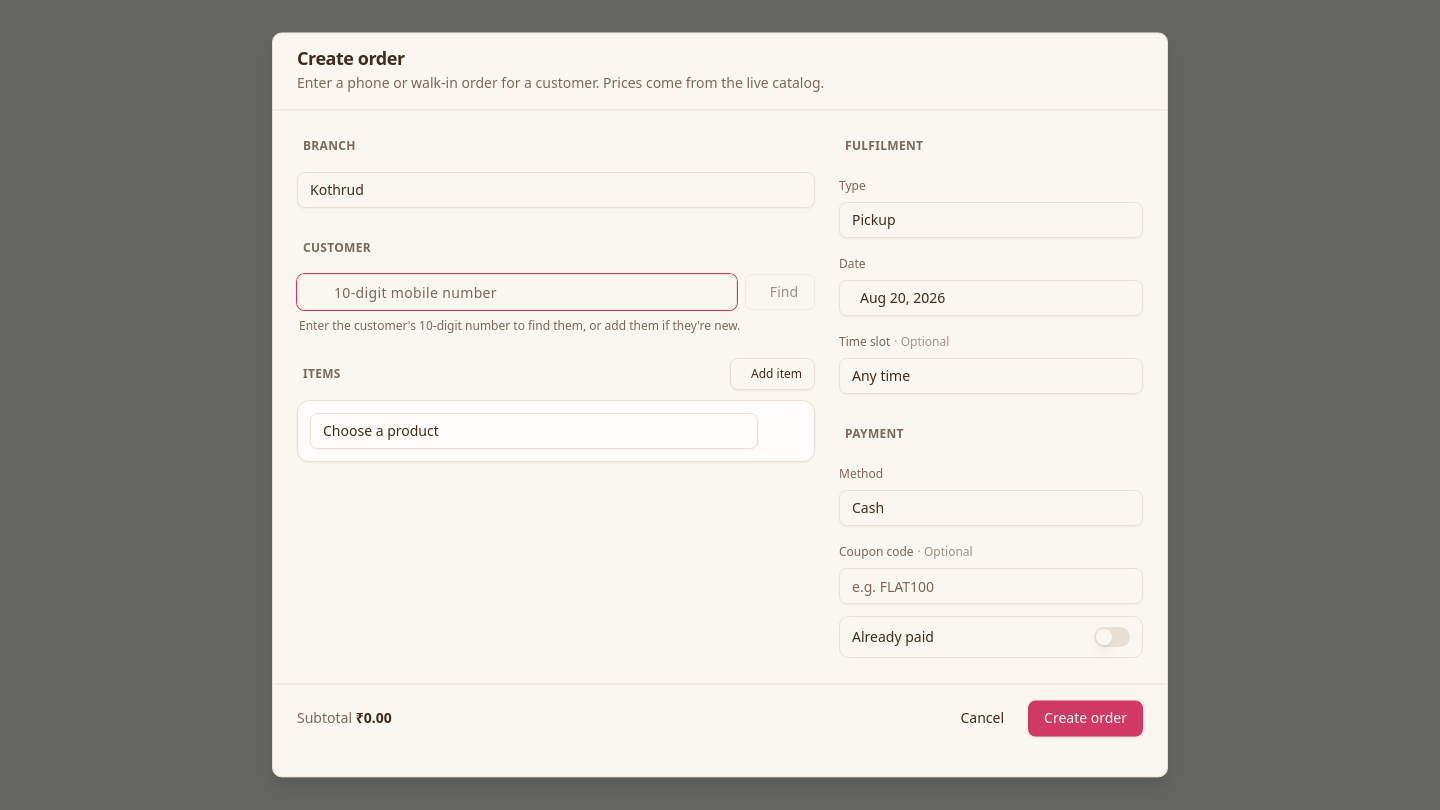
Test: CreateOrderDialog without the customer directory › takes an unknown number into the form, already filled and fixed
Type "9812345678" into the field with placeholder "10-digit mobile number". click: point(517, 292)
box: top-left (297, 274), bottom-right (737, 310)
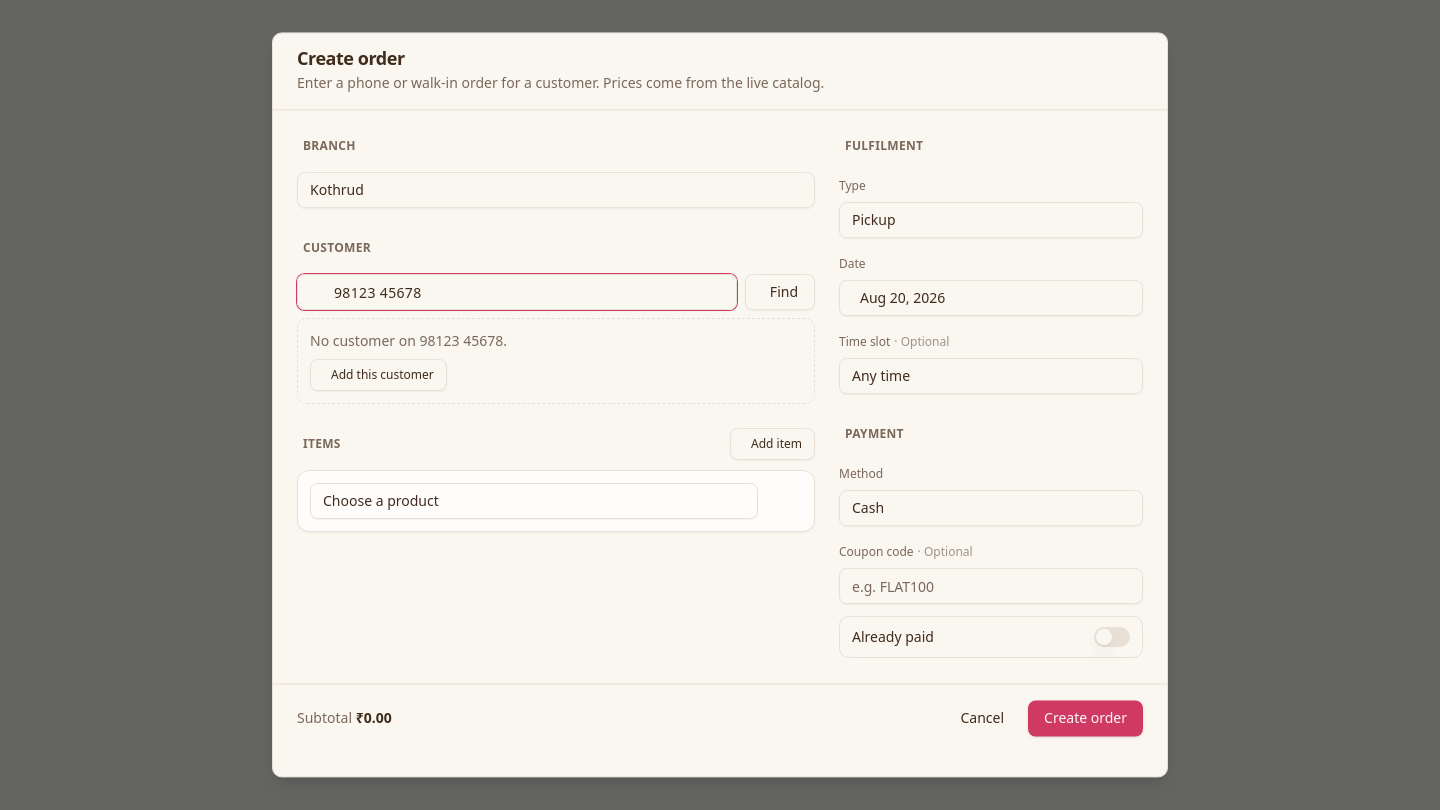
Click the button "Add this customer". click: point(378, 375)
box: top-left (310, 359), bottom-right (447, 391)
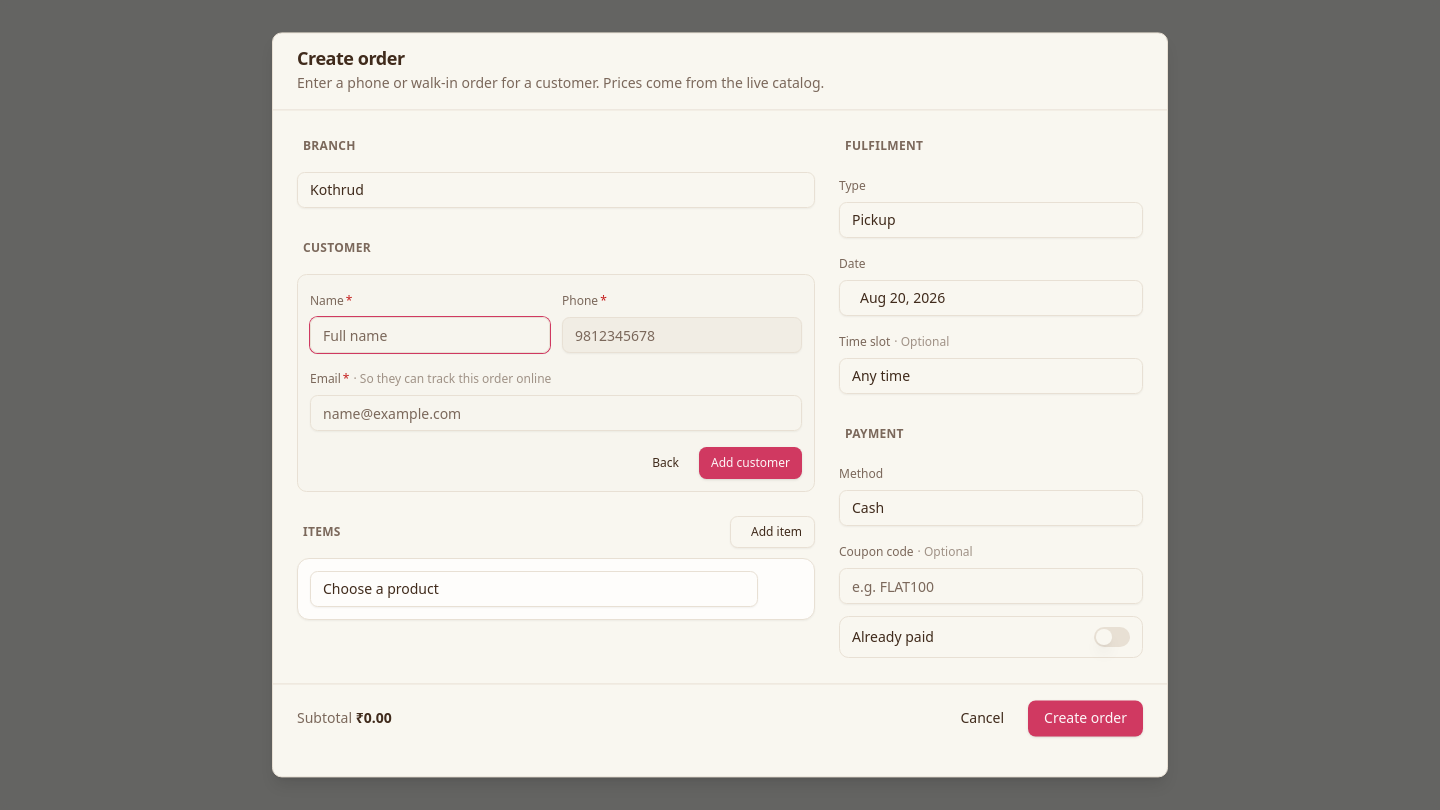
Check: the field showing "9812345678" has attribute readonly, box top-left (562, 317), bottom-right (802, 353)
Type "Riya Sharma" into the field with placeholder "Full name". click: point(430, 335)
box: top-left (310, 317), bottom-right (550, 353)
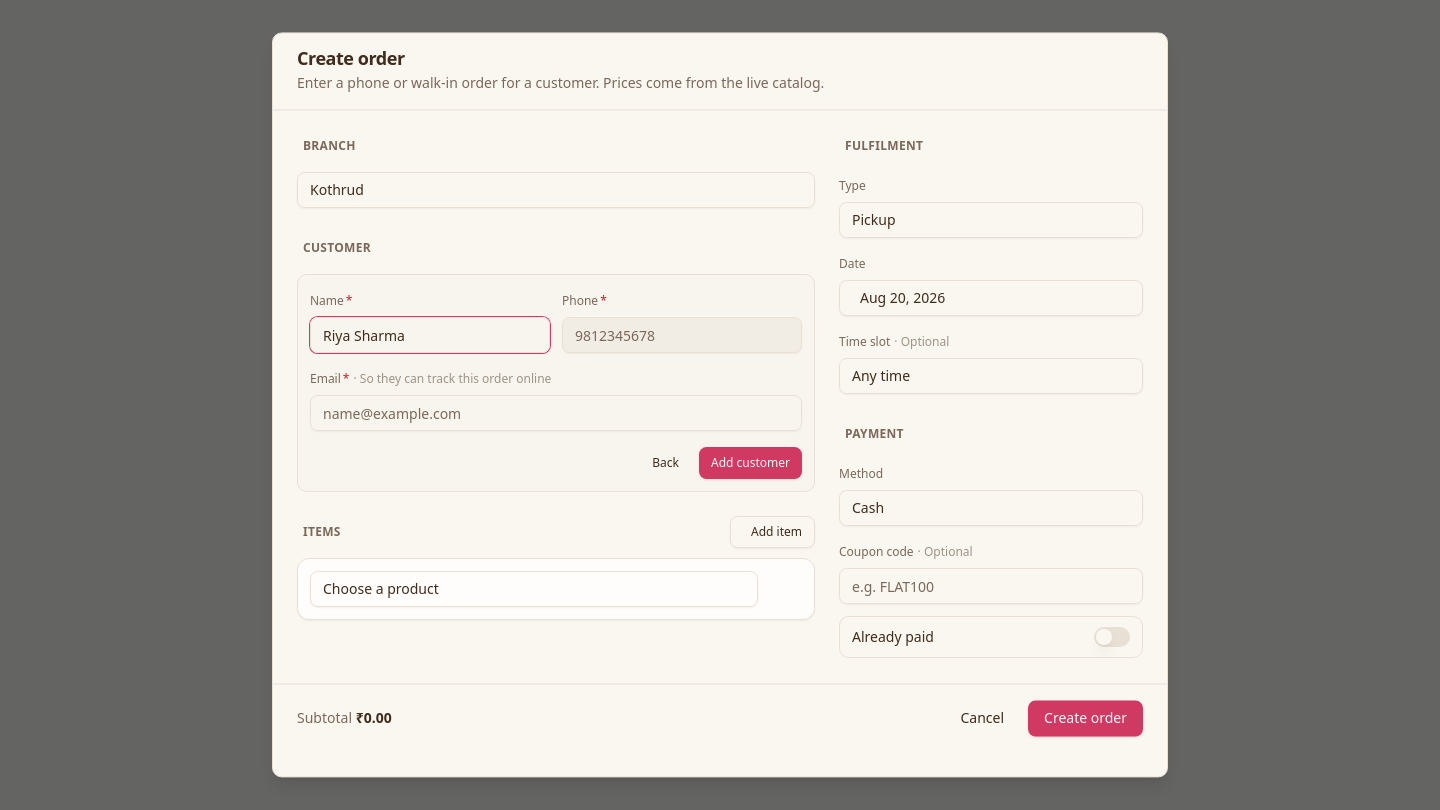
Type "riya@example.com" into the field with placeholder "name@example.com". click: point(556, 413)
box: top-left (310, 395), bottom-right (802, 431)
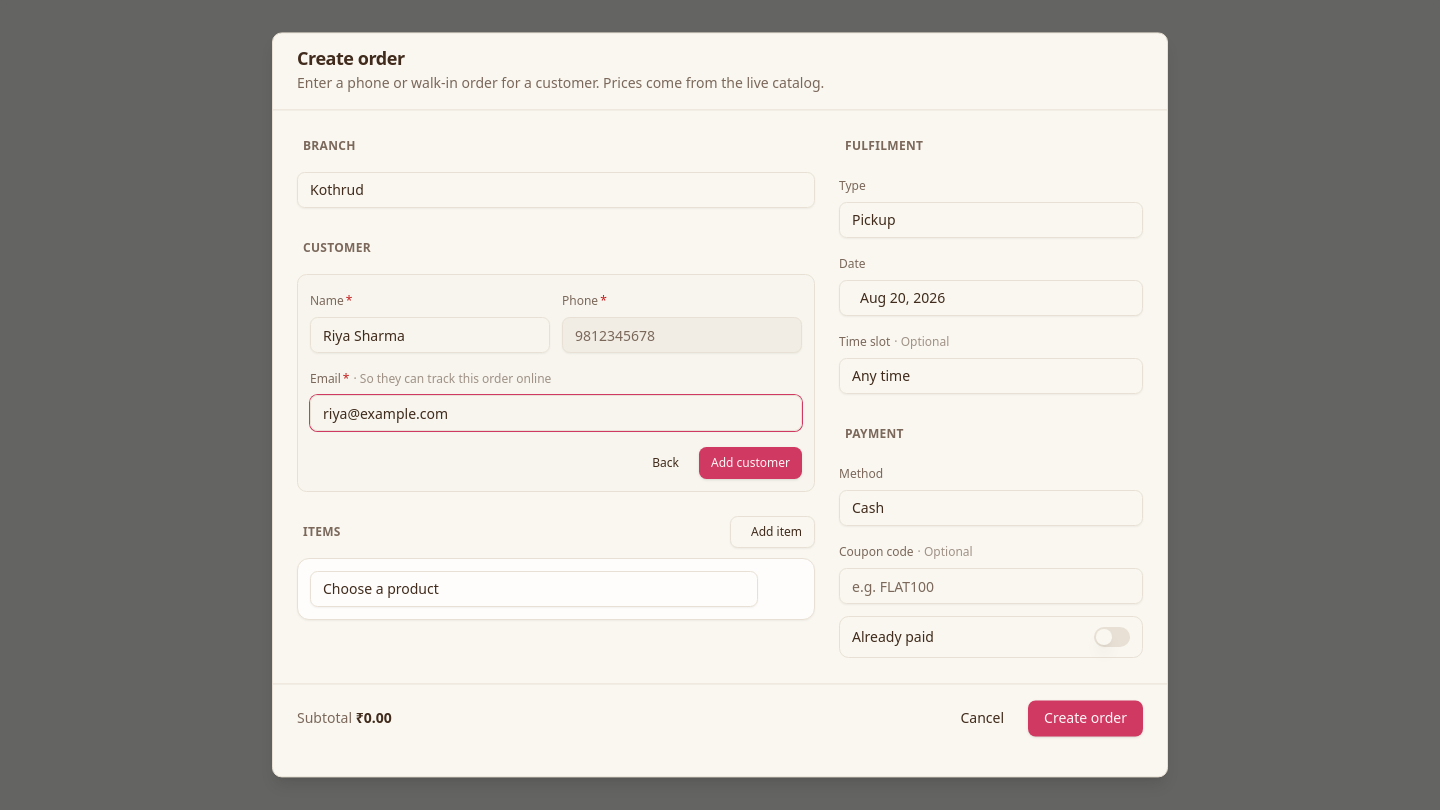
Click the button "Add customer". click: point(750, 463)
box: top-left (699, 447), bottom-right (802, 479)
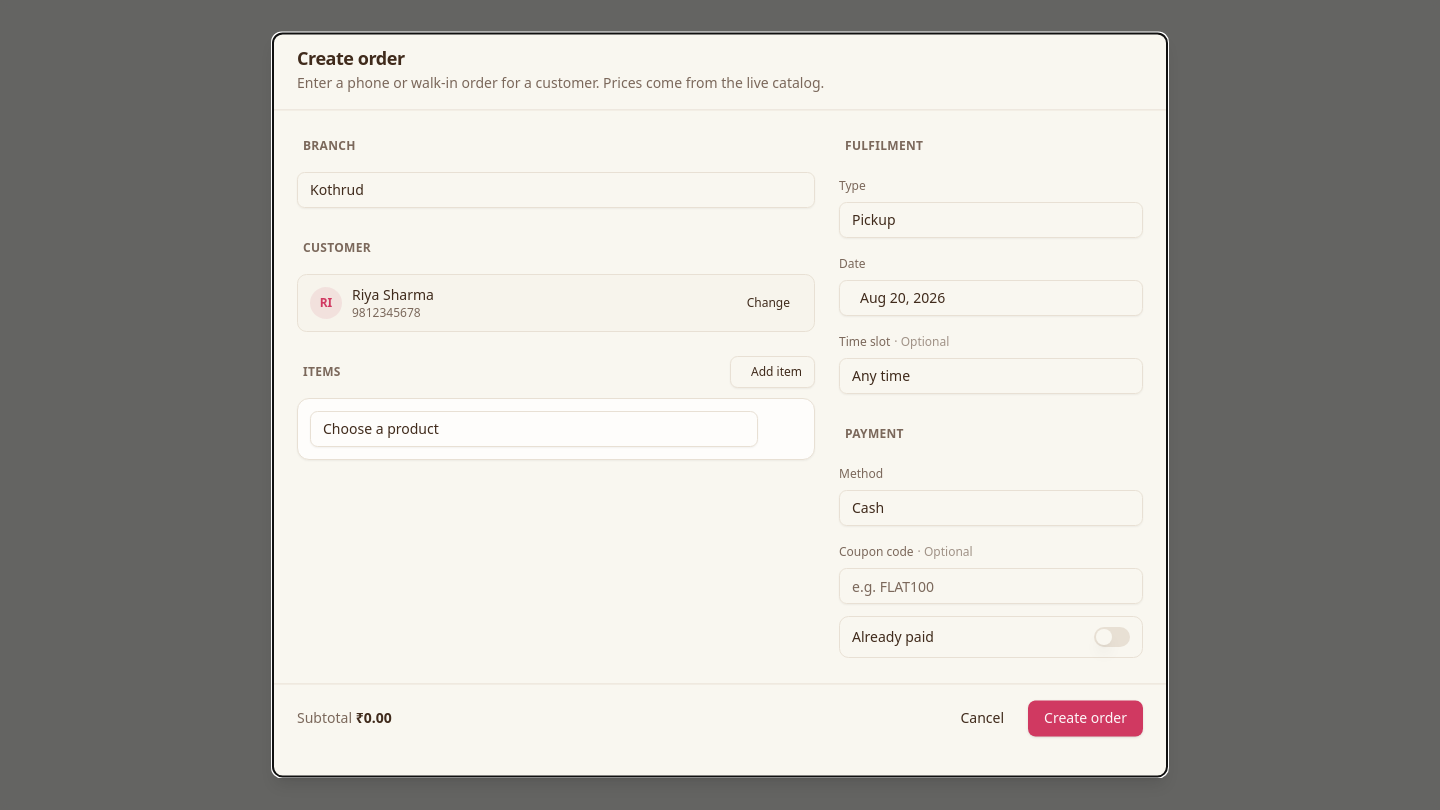
Check: the text "Riya Sharma" is shown, box top-left (352, 285), bottom-right (434, 305)
